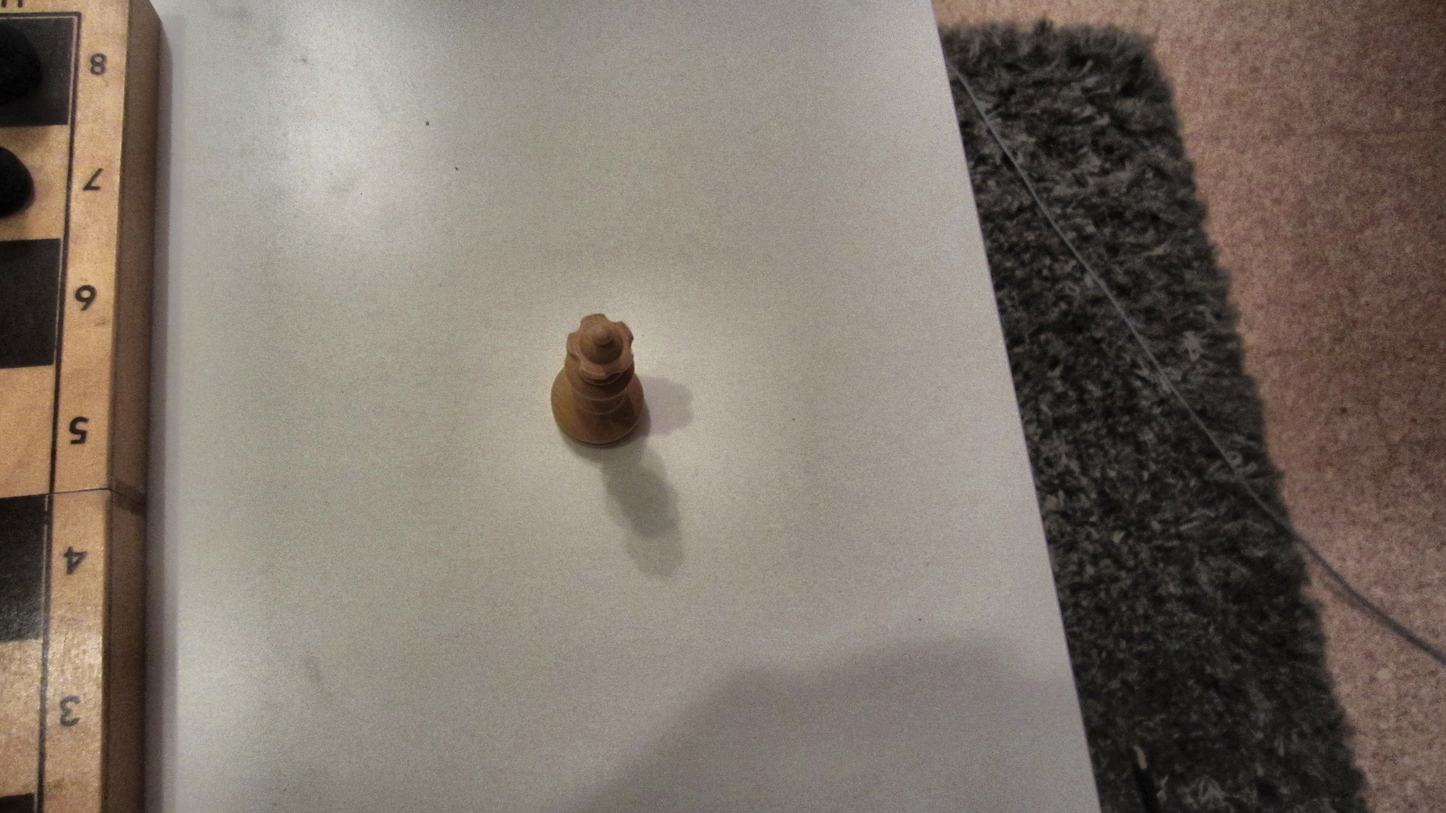white-queen: (545, 309, 650, 447)
